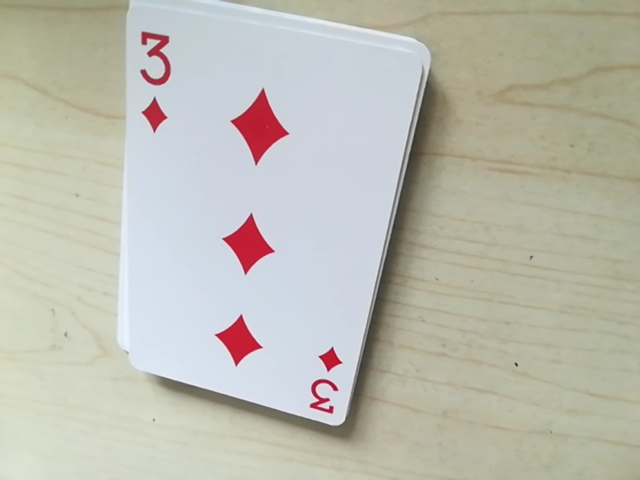fk 3: (126, 13, 178, 143), (302, 346, 345, 419)
